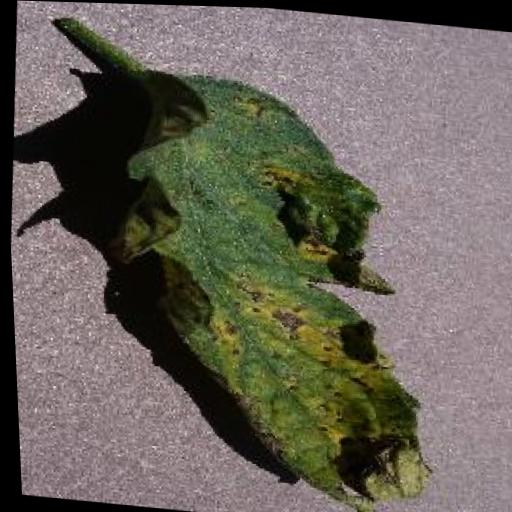Septoria: (98, 64, 457, 512)
